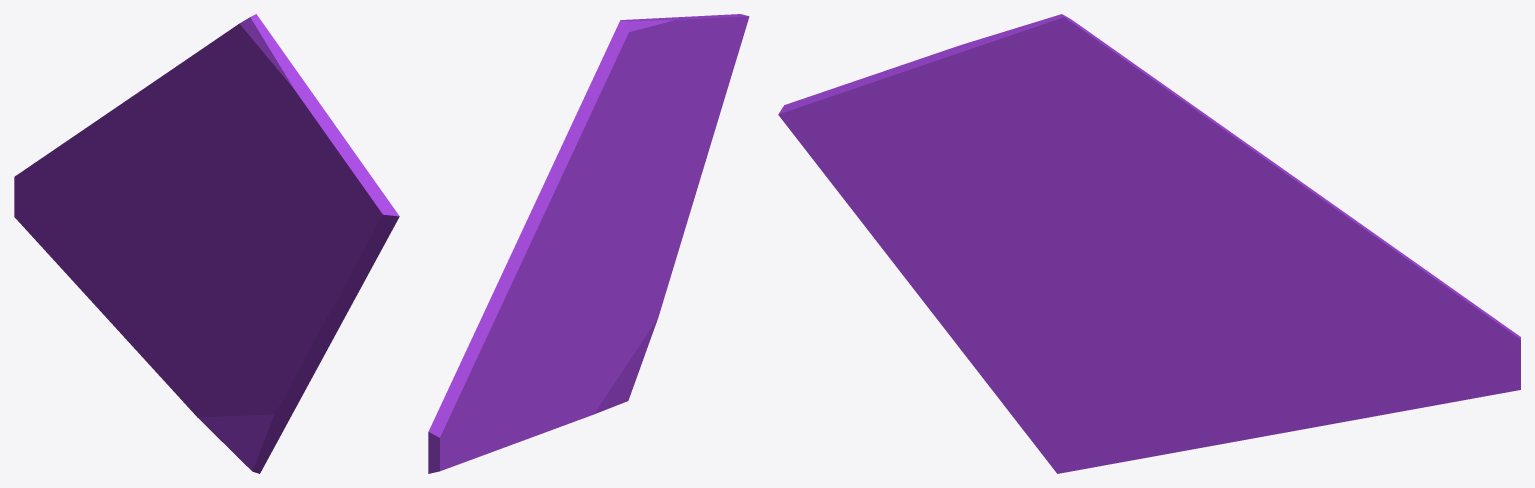
File: Glass_77_6_chunks.fbx
The picture shows the model from 3 angles, left to right: view 1: azimuth 30°, elevation 25°; view 2: azimuth 150°, elevation 25°; view 3: azimuth 270°, elevation 25°; orthographic projection. The views are drawn at different scales.
Visible parts, largest first — view 1: Glass_77_6_12, Glass_77_6_0, Glass_77_6_3, Glass_77_6_15, Glass_77_6_7, Glass_77_6_14, Glass_77_6_11, Glass_77_6_10, Glass_77_6_1, Glass_77_6_8, Glass_77_6_9, Glass_77_6_13 (+3 smaller); view 2: Glass_77_6_0, Glass_77_6_3, Glass_77_6_12, Glass_77_6_15, Glass_77_6_7, Glass_77_6_14, Glass_77_6_11, Glass_77_6_10, Glass_77_6_1, Glass_77_6_13, Glass_77_6_9, Glass_77_6_6 (+3 smaller); view 3: Glass_77_6_12, Glass_77_6_0, Glass_77_6_3, Glass_77_6_7, Glass_77_6_14, Glass_77_6_13, Glass_77_6_6, Glass_77_6_15, Glass_77_6_5, Glass_77_6_8, Glass_77_6_11, Glass_77_6_10 (+4 smaller).
Boxes of the visible parts, bbox=[...] form: Glass_77_6_12: bbox=[265, 84, 399, 290]; Glass_77_6_0: bbox=[89, 69, 201, 250]; Glass_77_6_3: bbox=[14, 126, 111, 288]; Glass_77_6_15: bbox=[173, 52, 267, 218]; Glass_77_6_7: bbox=[93, 238, 200, 376]; Glass_77_6_14: bbox=[198, 14, 308, 153]; Glass_77_6_11: bbox=[224, 228, 358, 329]; Glass_77_6_10: bbox=[198, 218, 260, 371]; Glass_77_6_1: bbox=[80, 210, 171, 302]; Glass_77_6_8: bbox=[270, 298, 354, 411]; Glass_77_6_9: bbox=[239, 322, 293, 438]; Glass_77_6_13: bbox=[202, 176, 300, 258]; Glass_77_6_0: bbox=[491, 152, 596, 345]; Glass_77_6_3: bbox=[428, 297, 521, 473]; Glass_77_6_12: bbox=[651, 14, 749, 154]; Glass_77_6_15: bbox=[558, 107, 652, 242]; Glass_77_6_7: bbox=[506, 272, 596, 446]; Glass_77_6_14: bbox=[572, 18, 671, 123]; Glass_77_6_11: bbox=[616, 113, 719, 255]; Glass_77_6_10: bbox=[594, 223, 647, 324]; Glass_77_6_1: bbox=[495, 306, 571, 450]; Glass_77_6_13: bbox=[597, 126, 680, 241]; Glass_77_6_9: bbox=[629, 251, 668, 351]; Glass_77_6_6: bbox=[588, 260, 634, 345]; Glass_77_6_12: bbox=[778, 42, 1012, 228]; Glass_77_6_0: bbox=[1155, 113, 1371, 302]; Glass_77_6_3: bbox=[1332, 232, 1520, 413]; Glass_77_6_7: bbox=[1152, 267, 1385, 439]; Glass_77_6_14: bbox=[959, 14, 1179, 151]; Glass_77_6_13: bbox=[920, 148, 1162, 261]; Glass_77_6_6: bbox=[1009, 253, 1174, 420]; Glass_77_6_15: bbox=[1041, 80, 1212, 235]; Glass_77_6_5: bbox=[1032, 379, 1245, 473]; Glass_77_6_8: bbox=[867, 229, 1023, 386]; Glass_77_6_11: bbox=[859, 218, 1075, 302]; Glass_77_6_10: bbox=[1021, 253, 1125, 366].
Size of the model in its own units: 27.2 by 870 by 1281.
